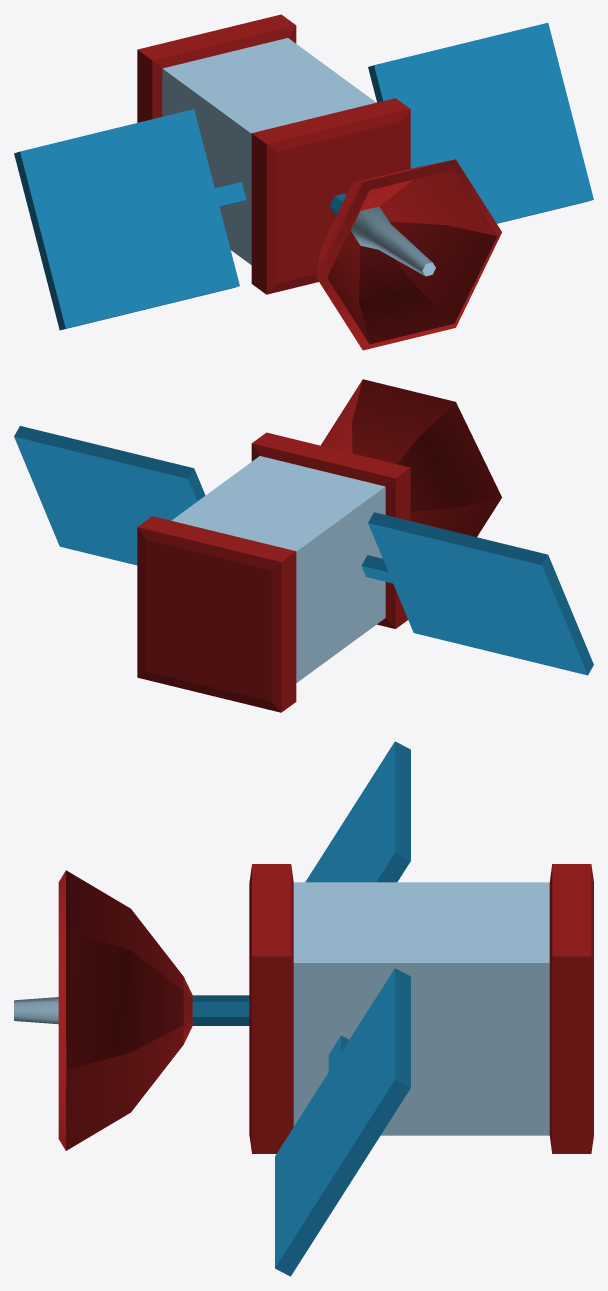
File: satelliteA.FBX
3 views of the same model, one above another, from view 1: azimuth 30°, elevation 25°; view 2: azimuth 150°, elevation 25°; view 3: azimuth 270°, elevation 25° (orthographic). The views are drawn at different scales.
Parts seen in each view (by area): view 1: satelliteA; view 2: satelliteA; view 3: satelliteA.
Boxes of the visible parts, <box> form: satelliteA: <box>14,14,593,350</box>; satelliteA: <box>14,379,593,712</box>; satelliteA: <box>14,741,593,1276</box>.
Bounding box in the file's own units: 679 × 207 × 492.
